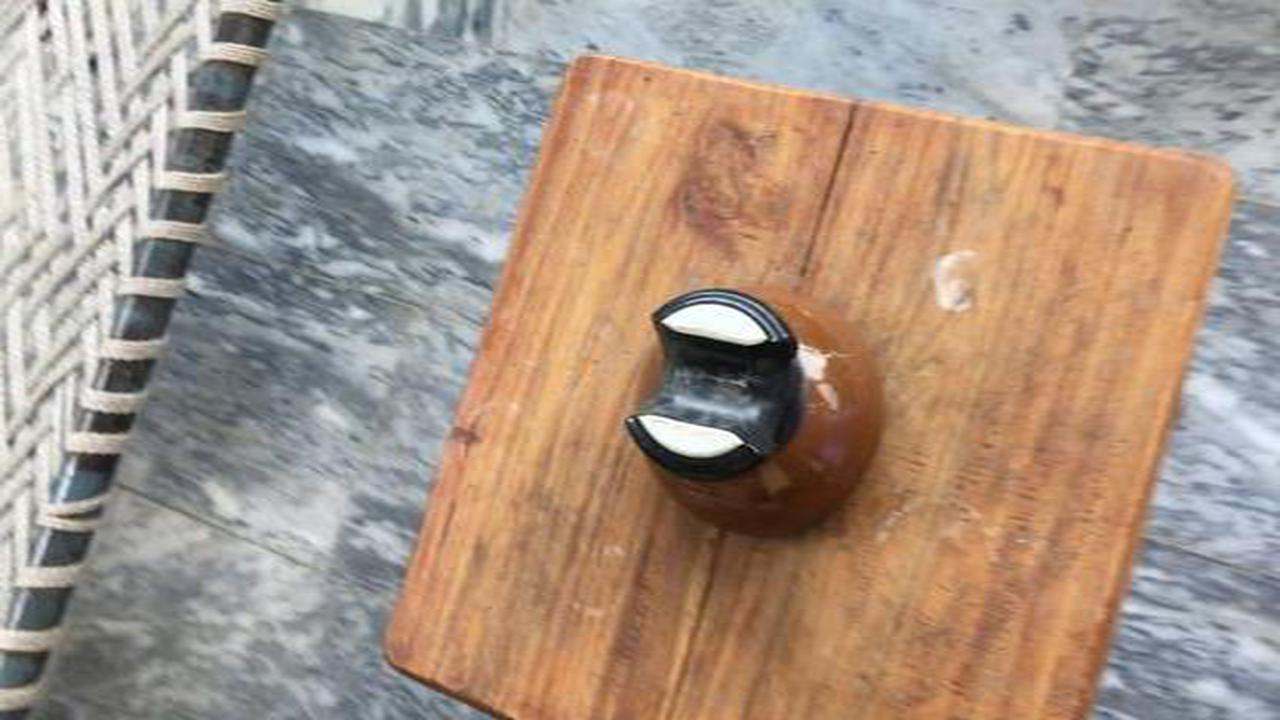insulator_pin: (613, 271, 902, 556)
